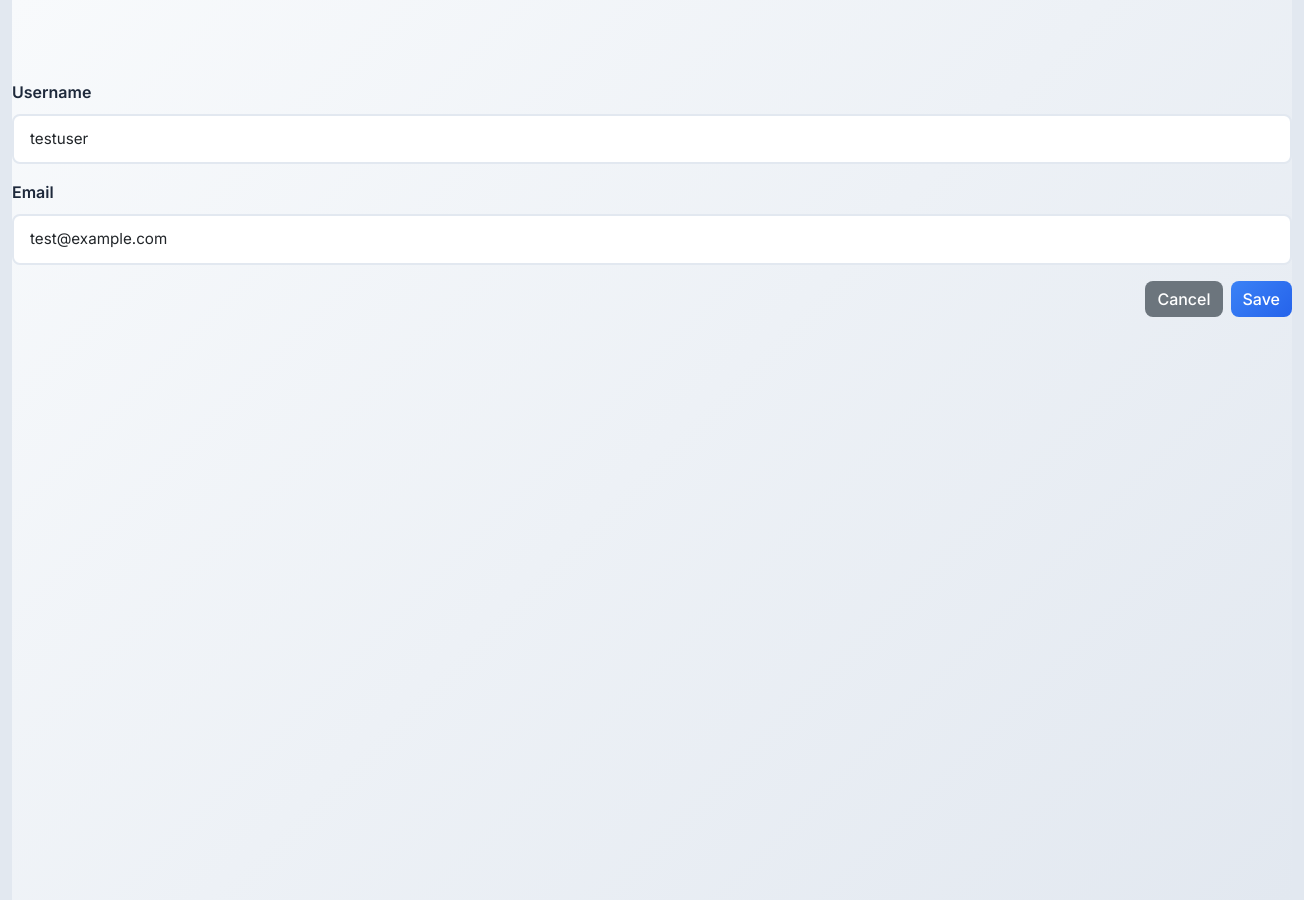
EditProfileForm Component › shows error when username is empty
Clear the field labelled "Username". click: (652,139)
box: [12, 114, 1292, 164]
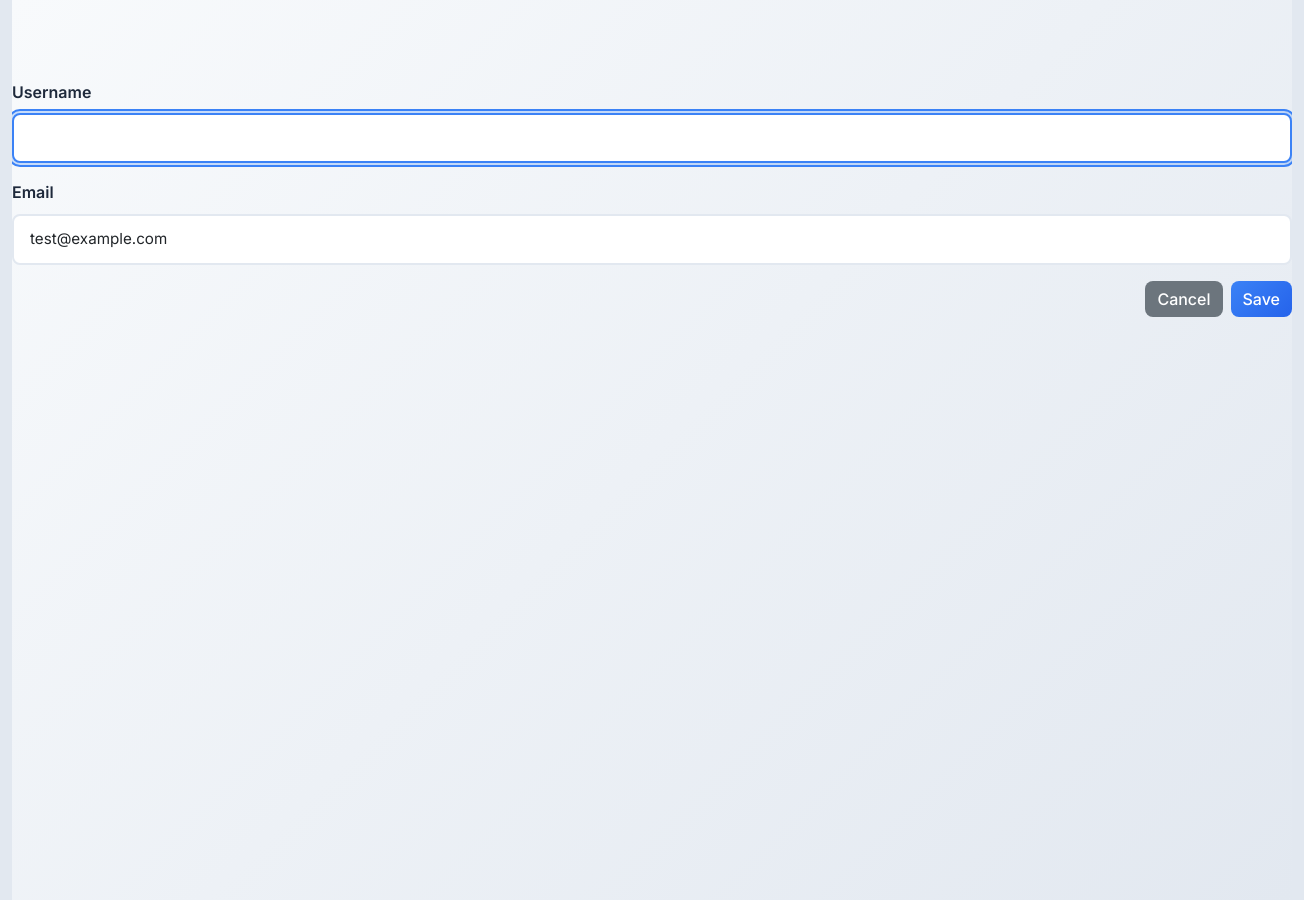
Click the button "Save". click: (1261,299)
box: [1230, 281, 1292, 317]
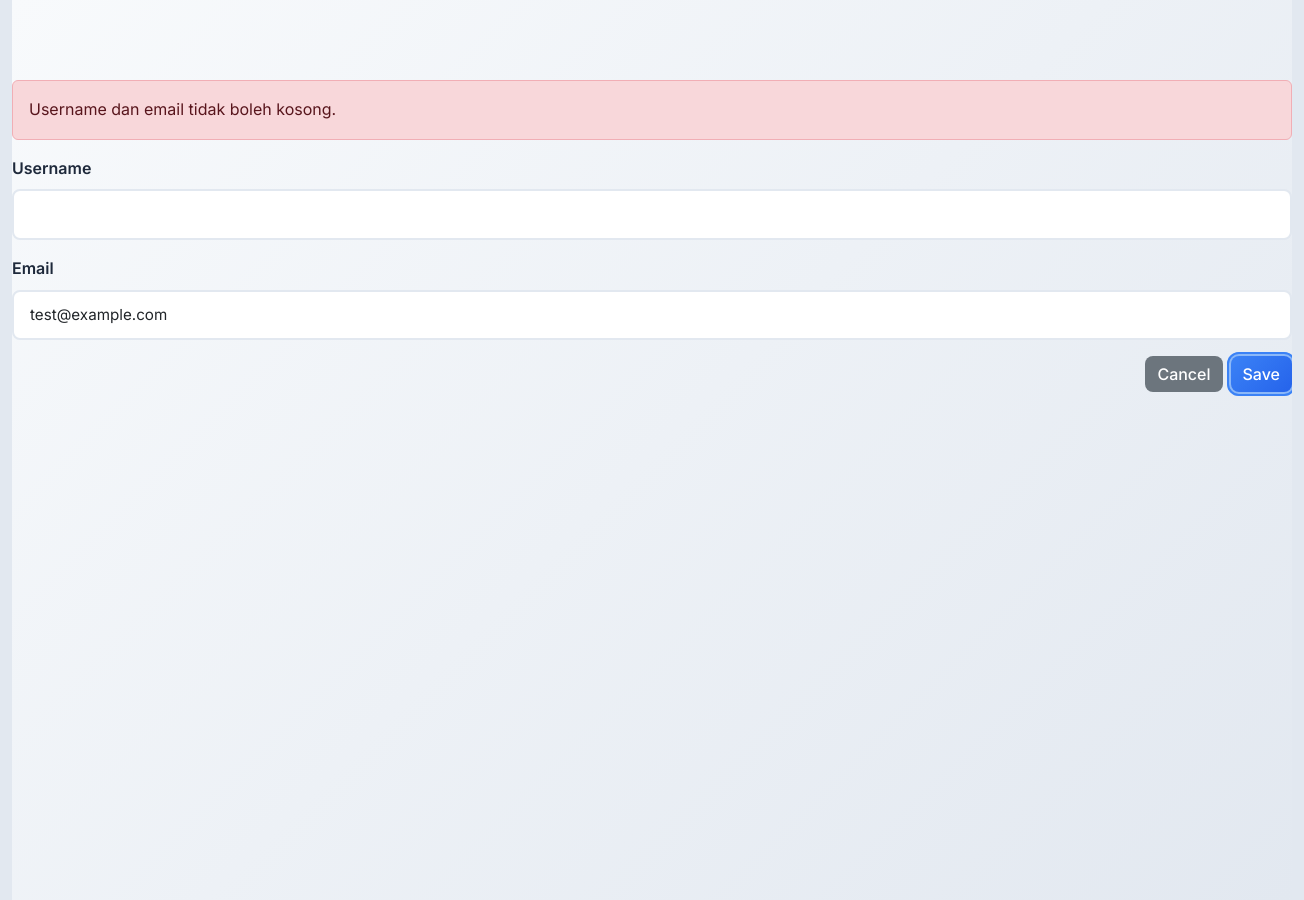
Now the text "Username dan email tidak boleh kosong." is shown, box [12, 80, 1292, 140]
